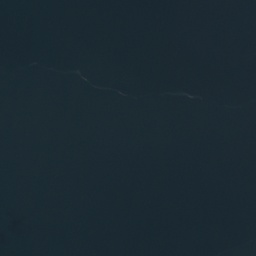Marine Debris: (22, 60, 206, 103)
